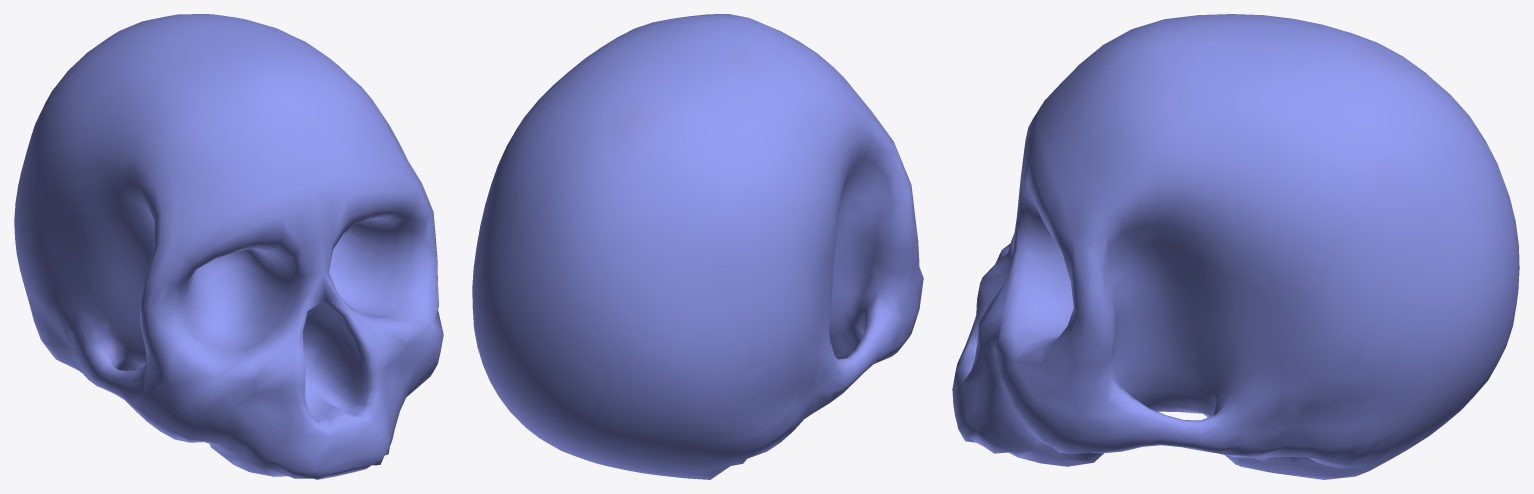
File: Memento_Mori_Crane_Low.fbx
The picture shows the model from 3 angles, left to right: view 1: azimuth 30°, elevation 25°; view 2: azimuth 150°, elevation 25°; view 3: azimuth 270°, elevation 25°; orthographic projection. The views are drawn at different scales.
Visible parts, largest first — view 1: Crane_Low_SeamsColor; view 2: Crane_Low_SeamsColor; view 3: Crane_Low_SeamsColor.
Boxes of the visible parts, x1,y1,x2,y2 form: Crane_Low_SeamsColor: (14, 14, 443, 479); Crane_Low_SeamsColor: (472, 14, 923, 479); Crane_Low_SeamsColor: (952, 14, 1519, 479).
Bounding box in the file's own units: 1.25 × 1.47 × 1.82.
